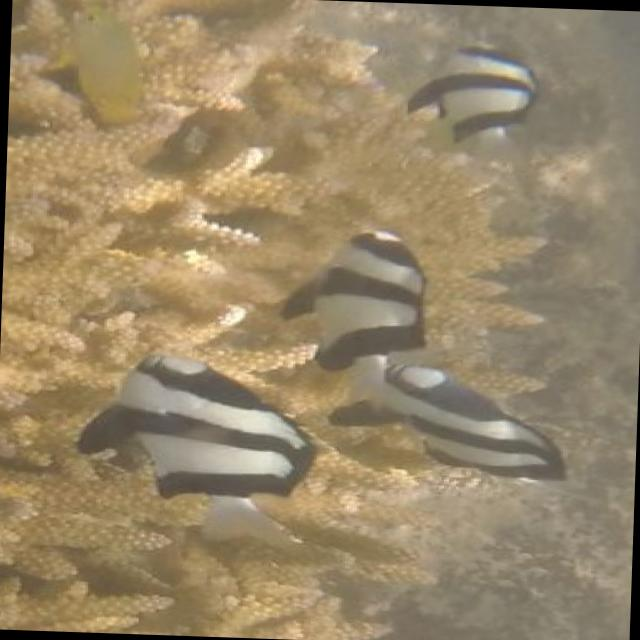ThreeStripedDamselfish: (74, 354, 313, 543), (278, 230, 423, 401)
